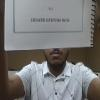notebook: (3, 0, 96, 51)
